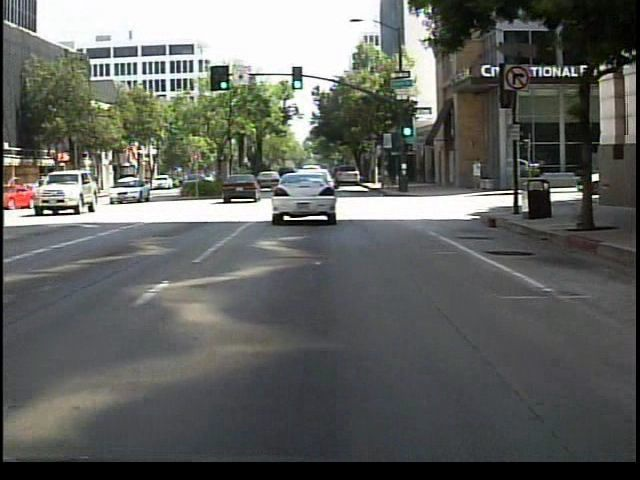person: (470, 155, 487, 195)
